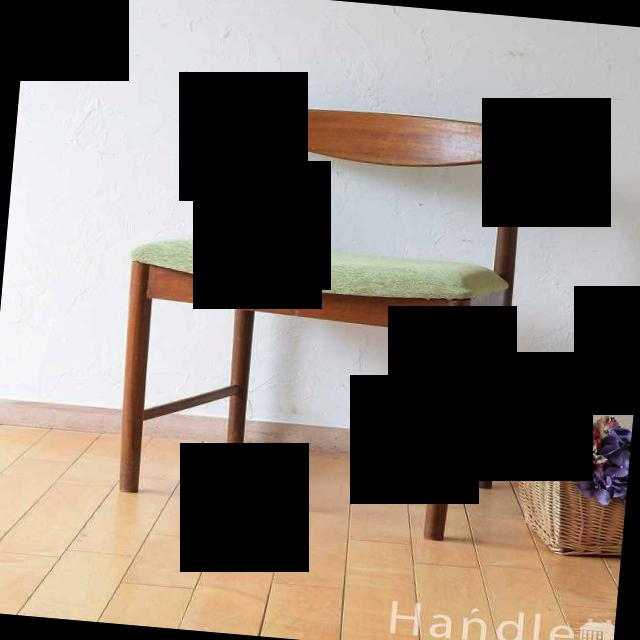chair vintage: (102, 86, 534, 550)
